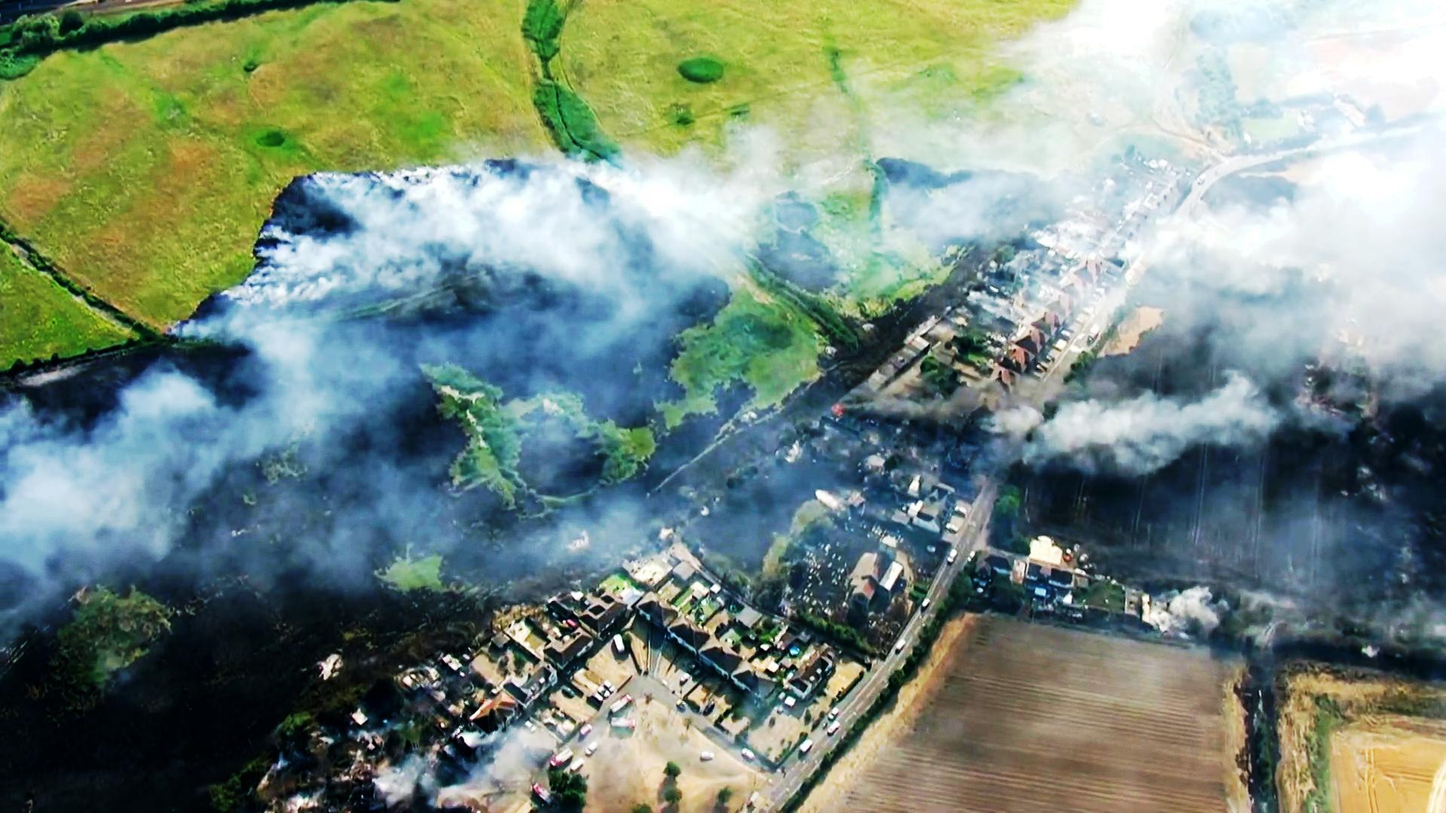smoke: (1070, 405, 1154, 475)
